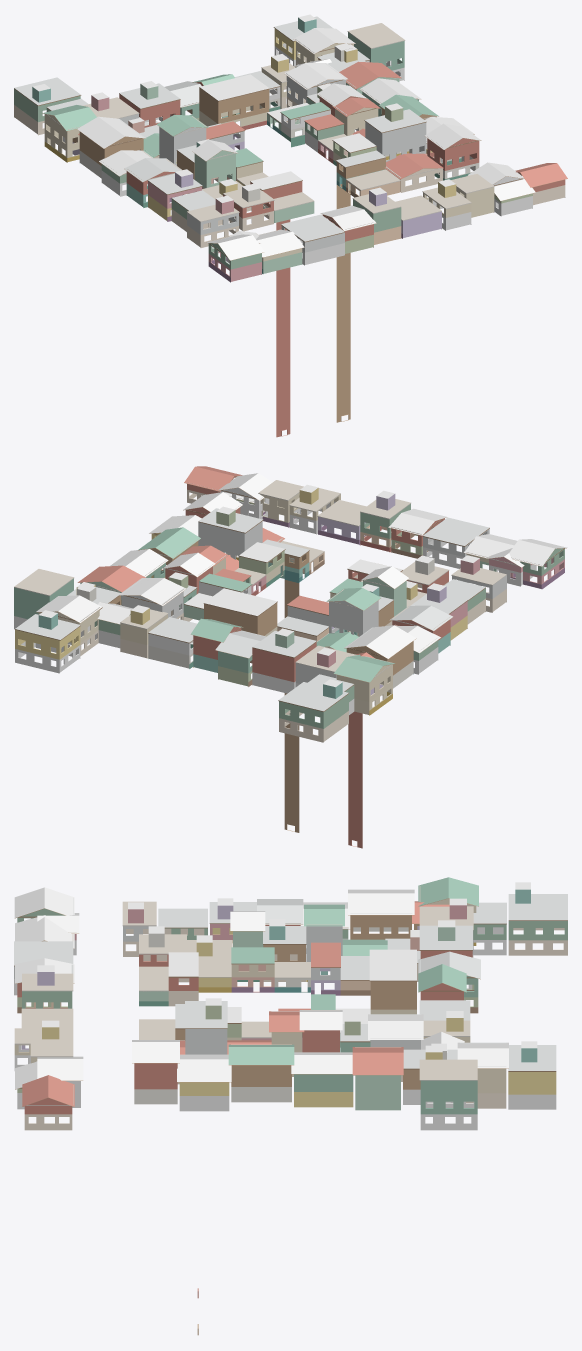
Rendered from alley_houses.glb.
The picture shows the model from 3 angles, top to bottom: view 1: azimuth 30°, elevation 25°; view 2: azimuth 150°, elevation 25°; view 3: azimuth 270°, elevation 25°; orthographic projection. The views are drawn at different scales.
Parts seen in each view (by area): view 1: alley_houses; view 2: alley_houses; view 3: alley_houses.
Boxes of the visible parts, <box> form: alley_houses: <box>14,14,567,437</box>; alley_houses: <box>14,466,567,848</box>; alley_houses: <box>14,877,567,1335</box>.
Bounding box in the file's own units: 73.42 × 60.85 × 83.75.
